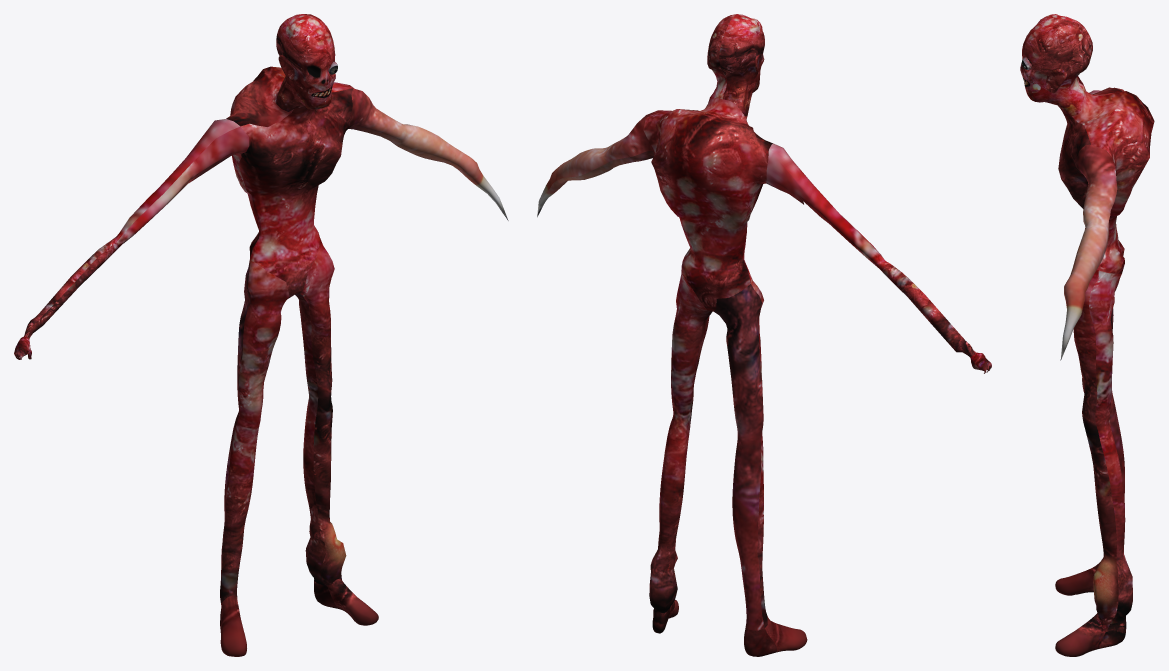
Rendered from Monster0.fbx.
3 views of the same model, side by side, from view 1: azimuth 30°, elevation 25°; view 2: azimuth 150°, elevation 25°; view 3: azimuth 270°, elevation 25° (orthographic). The views are drawn at different scales.
Visible parts, largest first — view 1: Plague_Boi; view 2: Plague_Boi; view 3: Plague_Boi.
Part boxes in pixels (bbox=[...]): Plague_Boi: bbox=[14, 14, 508, 656]; Plague_Boi: bbox=[537, 14, 991, 656]; Plague_Boi: bbox=[1020, 14, 1154, 656].
Bounding box in the file's own units: 133 × 166 × 33.29.
